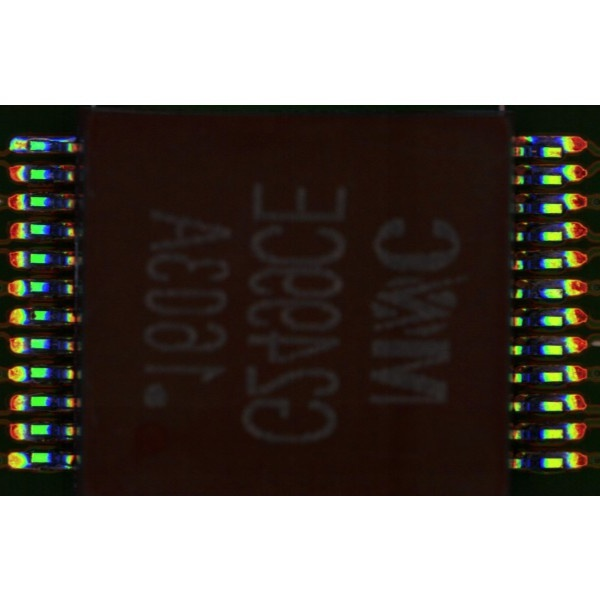Bad_podu: (21, 141, 35, 149)
Bad_qiaojiao: (30, 137, 74, 142)
